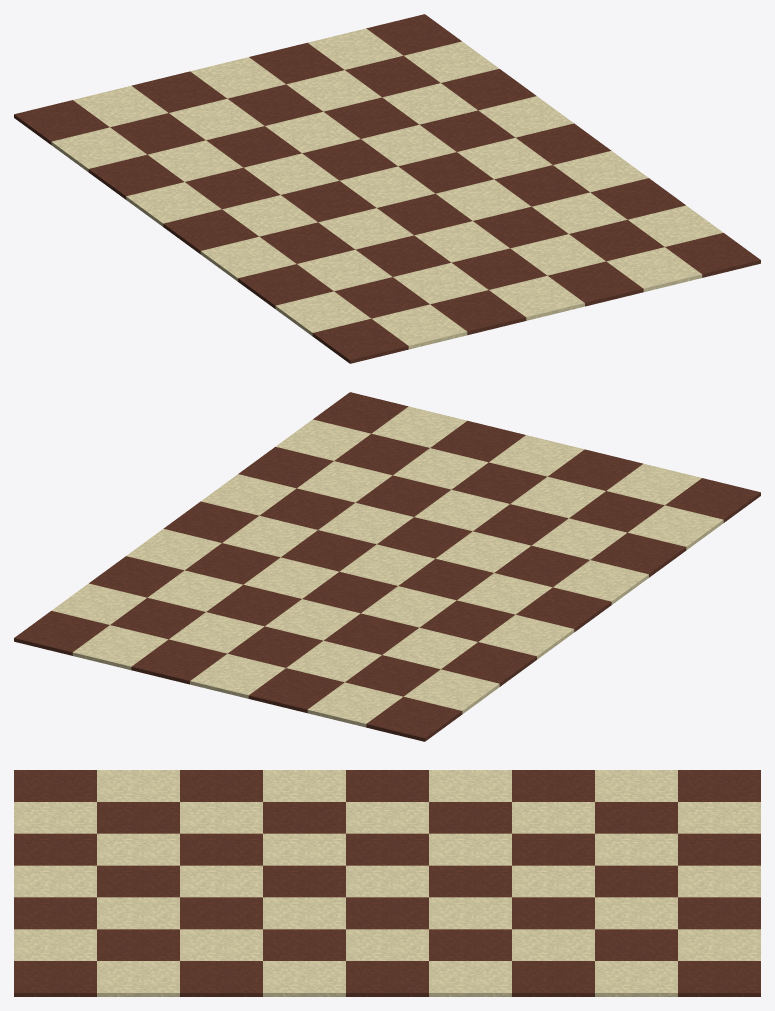
File: alfombra-shaggy-cuadros-rojo-120x170.glb
3 renders of one model, top to bottom at view 1: azimuth 30°, elevation 25°; view 2: azimuth 150°, elevation 25°; view 3: azimuth 270°, elevation 25°, orthographic. The views are drawn at different scales.
Parts seen in each view (by area): view 1: alfombra-shaggy-cuadros-rojo; view 2: alfombra-shaggy-cuadros-rojo; view 3: alfombra-shaggy-cuadros-rojo.
Boxes of the visible parts, left/top/right/bottom form: alfombra-shaggy-cuadros-rojo: left=14, top=14, right=760, bottom=363; alfombra-shaggy-cuadros-rojo: left=14, top=392, right=760, bottom=741; alfombra-shaggy-cuadros-rojo: left=14, top=770, right=760, bottom=996.
Size of the model in its own units: 1.2 by 0.01 by 1.7.
Materials: 2 (2 with a texture image).
